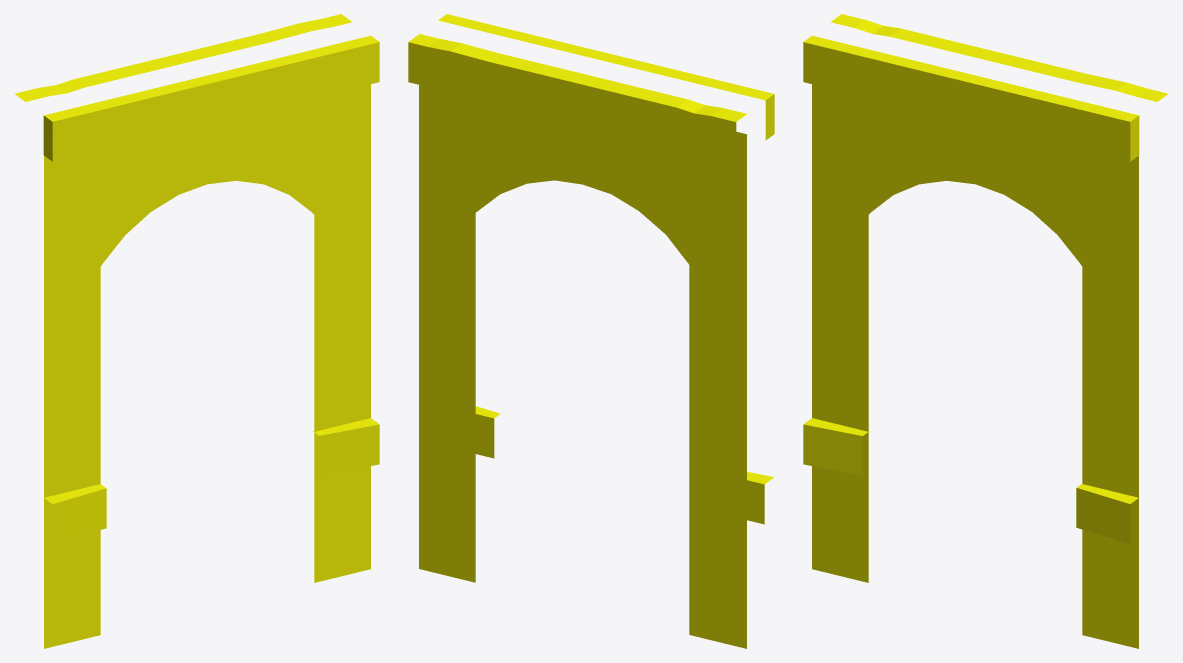
The model's file is Wall_Plaster_Door_Round.glb.
The picture shows the model from 3 angles, left to right: view 1: azimuth 30°, elevation 25°; view 2: azimuth 150°, elevation 25°; view 3: azimuth 330°, elevation 25°; orthographic projection.
Visible parts, largest first — view 1: Wall_Plaster_Door_Round; view 2: Wall_Plaster_Door_Round; view 3: Wall_Plaster_Door_Round.
Part boxes in pixels (x1,y1,x2,y2): Wall_Plaster_Door_Round: (14,14,379,648); Wall_Plaster_Door_Round: (408,14,774,648); Wall_Plaster_Door_Round: (803,14,1168,648).
Size of the model in its own units: 2 by 3.12 by 0.4065.
Materials: 3 (3 with a texture image).
